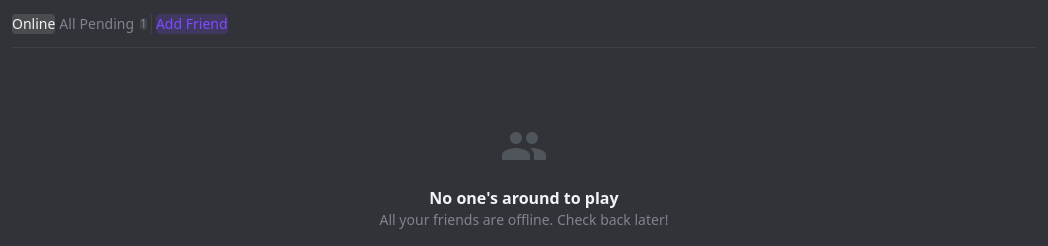
Test: FriendsView — Pending tab › shows outgoing requests
Click the button "Pending 1". click: (113, 24)
box: [80,14,147,34]
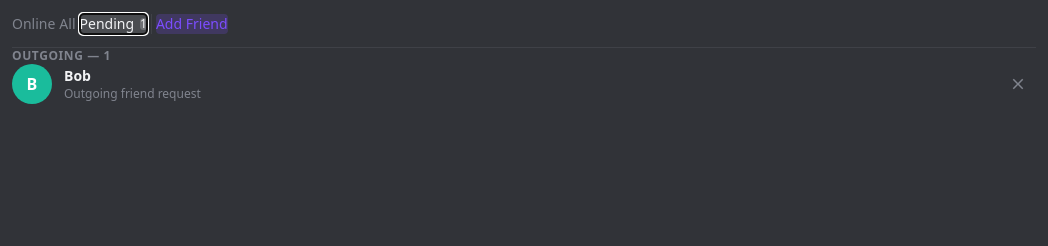
Expected: the text "Bob" is shown, [64,66,91,85]
Expected: the text "Outgoing — 1" is shown, [12,48,111,64]
